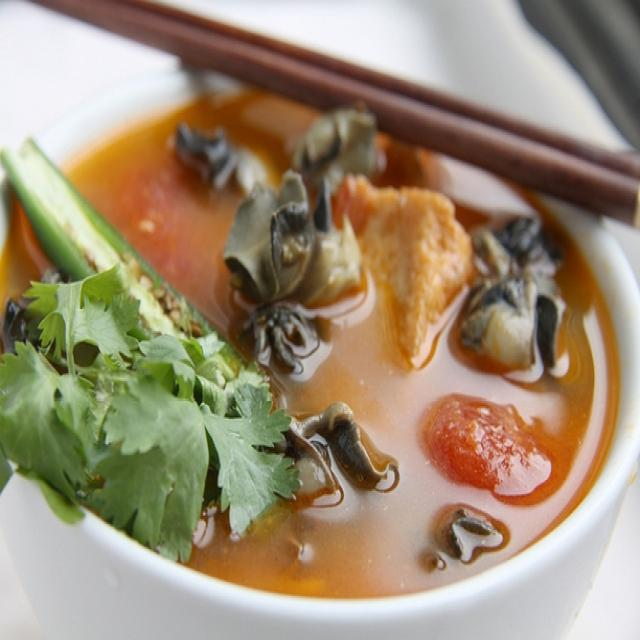面条主食: (9, 18, 632, 614)
